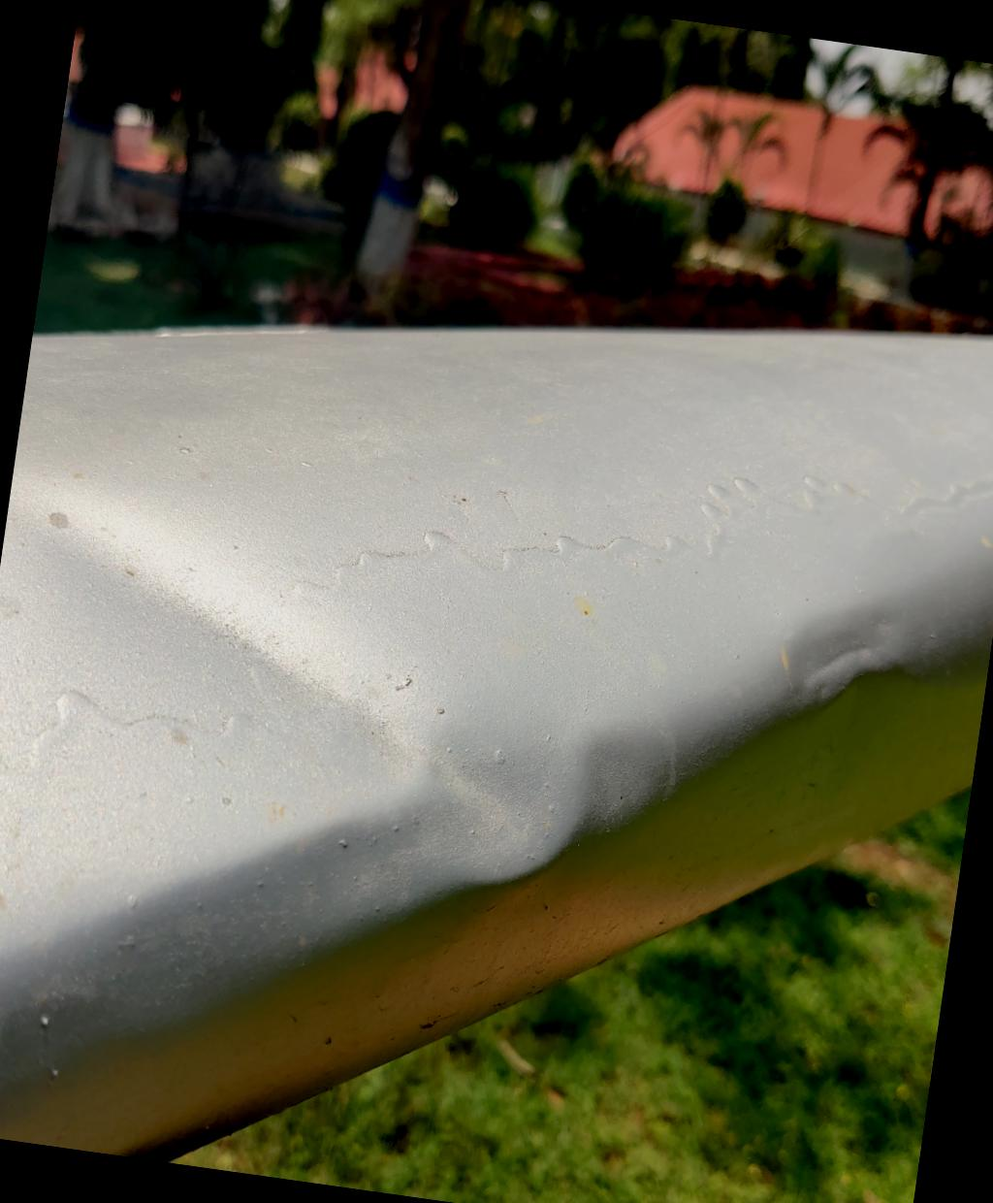dent: (11, 473, 652, 961), (751, 553, 923, 744)
